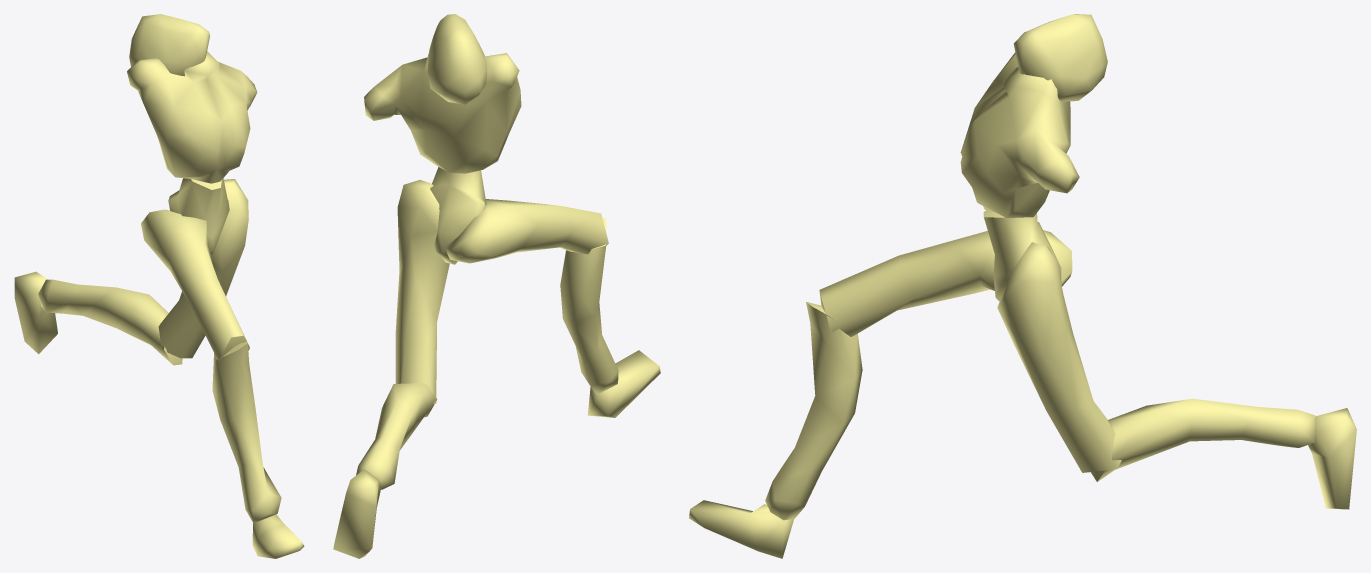
File: filth25.obj
The picture shows the model from 3 angles, left to right: view 1: azimuth 30°, elevation 25°; view 2: azimuth 150°, elevation 25°; view 3: azimuth 270°, elevation 25°; orthographic projection. The views are drawn at different scales.
Parts seen in each view (by area): view 1: Melee_Husk; view 2: Melee_Husk; view 3: Melee_Husk.
Boxes of the visible parts, x1=… form: Melee_Husk: x1=14, y1=14, x2=304, y2=558; Melee_Husk: x1=333, y1=14, x2=660, y2=558; Melee_Husk: x1=689, y1=14, x2=1356, y2=558.
Bounding box in the file's own units: 19.72 × 63.76 × 70.43.
